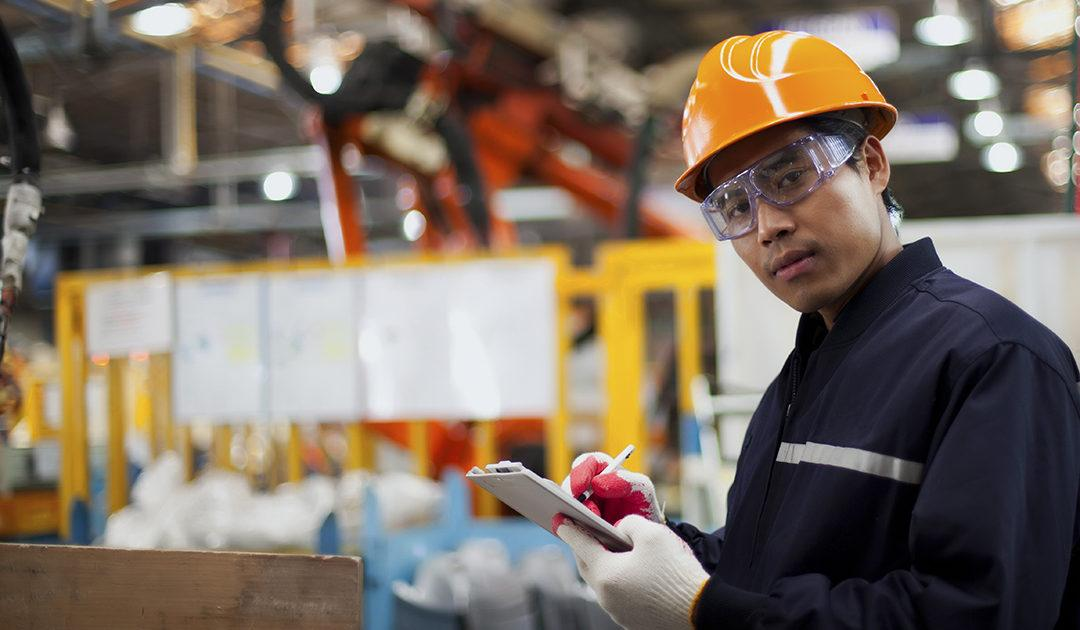helmet: (675, 36, 890, 194)
